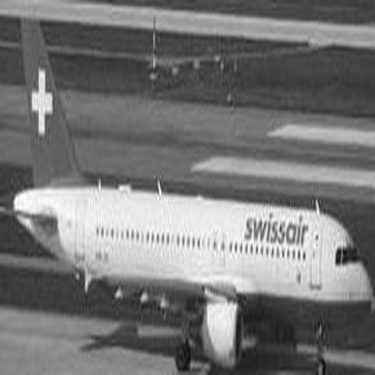airplane: (6, 4, 372, 372)
